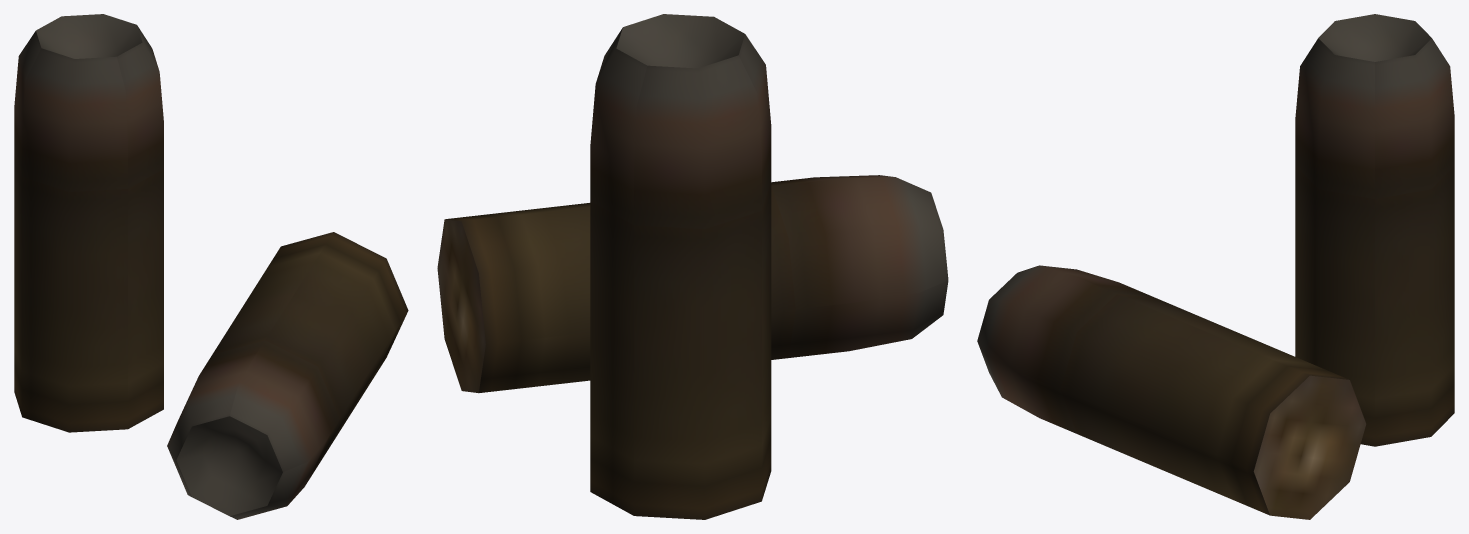
Rendered from ammo_pistol_loose_2pcs_mp_2.obj.
3 views of the same model, side by side, from view 1: azimuth 30°, elevation 25°; view 2: azimuth 150°, elevation 25°; view 3: azimuth 270°, elevation 25° (orthographic). The views are drawn at different scales.
Visible parts, largest first — view 1: ammo_pistol_loose_2pcs_mp_2; view 2: ammo_pistol_loose_2pcs_mp_2; view 3: ammo_pistol_loose_2pcs_mp_2.
Part boxes in pixels (x1,y1,x2,y2): ammo_pistol_loose_2pcs_mp_2: (14, 14, 408, 519); ammo_pistol_loose_2pcs_mp_2: (437, 14, 948, 519); ammo_pistol_loose_2pcs_mp_2: (977, 14, 1454, 519).
Bounding box in the file's own units: 0.0308 × 0.0327 × 0.0378.
